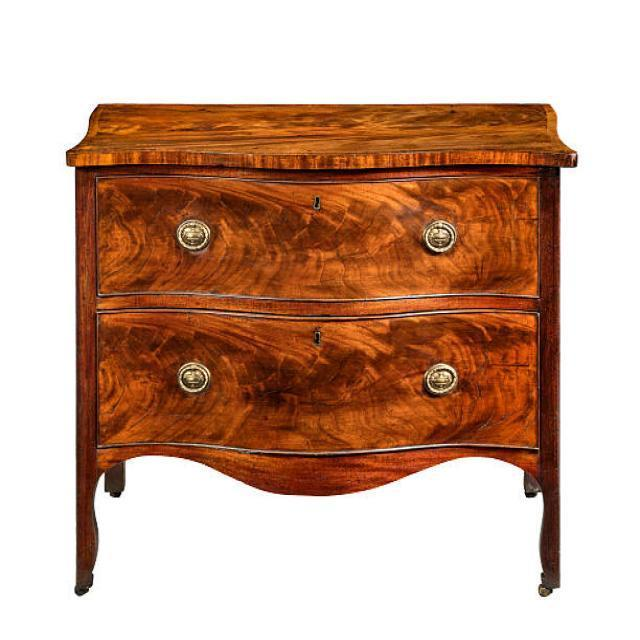table: (65, 102, 578, 598)
